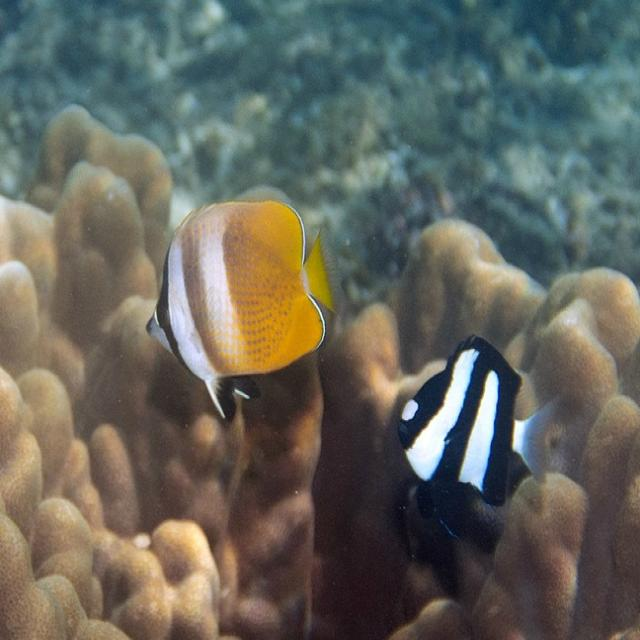ThreeStripedDamselfish: (387, 330, 559, 526)
